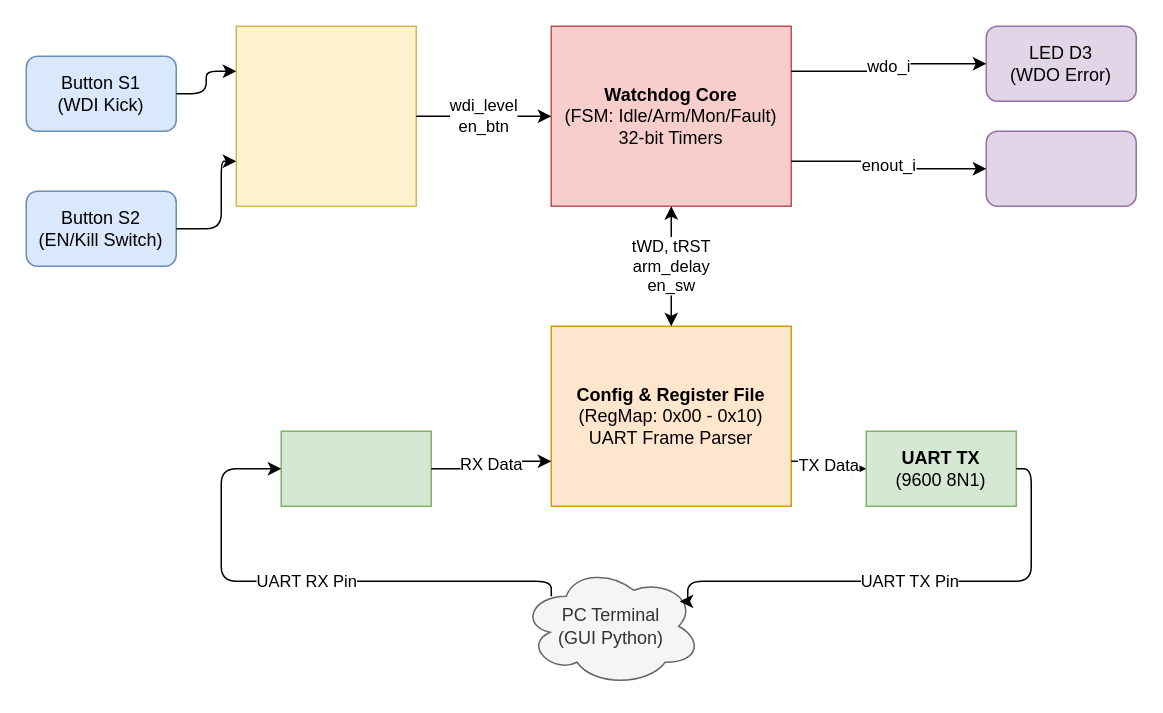
Image size: 1163x713. Some labels were removed from this diagram. The shapes that lost their labels are listed below. From the top down, each one's centre as x and y in pixels, then its label:
point (325, 115): Sync & Debounce (2-FF + 20ms Filter)
point (1060, 168): LED D4 (ENOUT Armed)
point (355, 468): UART RX (9600 8N1)
